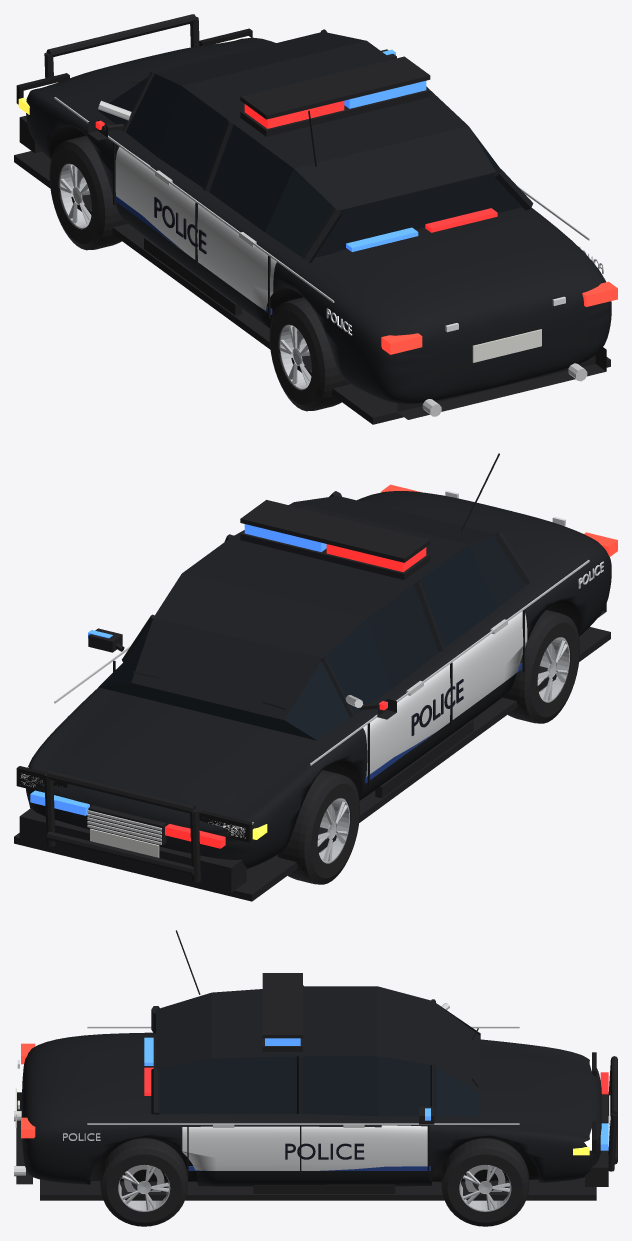
Rendered from police.glb.
3 views of the same model, one above another, from view 1: azimuth 30°, elevation 25°; view 2: azimuth 150°, elevation 25°; view 3: azimuth 270°, elevation 25° (orthographic). The views are drawn at different scales.
Visible parts, largest first — view 1: body, wheel_rl, wheel_fl; view 2: body, wheel_fl, wheel_rl; view 3: body, wheel_fr, wheel_rr.
Part boxes in pixels (x1=…): body: x1=14, y1=14, x2=617, y2=424; wheel_rl: x1=269, y1=297, x2=350, y2=411; wheel_fl: x1=49, y1=135, x2=127, y2=250; body: x1=14, y1=453, x2=617, y2=901; wheel_fl: x1=278, y1=770, x2=359, y2=884; wheel_rl: x1=503, y1=610, x2=579, y2=723; body: x1=14, y1=930, x2=617, y2=1200; wheel_fr: x1=441, y1=1138, x2=529, y2=1226; wheel_rr: x1=100, y1=1138, x2=187, y2=1226.
Size of the model in its own units: 2.28 by 1.98 by 5.1.
